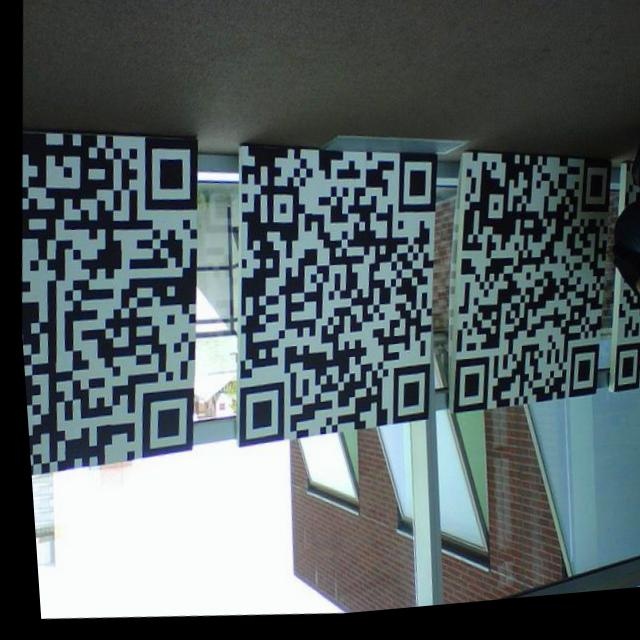qrcode: (218, 136, 450, 464), (8, 122, 212, 487), (434, 152, 622, 433), (602, 284, 640, 406)
